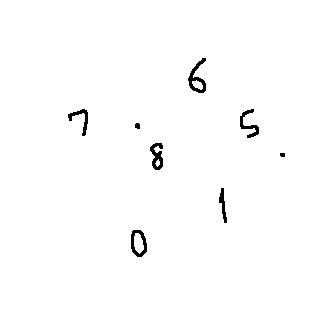.: (129, 120, 144, 136), (278, 149, 288, 159)
0: (128, 222, 155, 271)
1: (207, 179, 242, 235)
5: (234, 99, 265, 152)
6: (183, 52, 214, 100)
7: (59, 100, 91, 144)
8: (147, 137, 172, 181)
